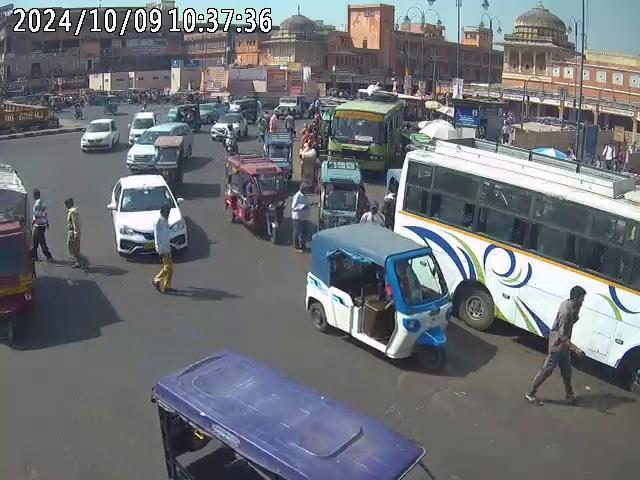auto: (152, 349, 438, 480), (303, 220, 455, 368), (223, 153, 287, 241), (320, 156, 364, 225), (156, 134, 186, 189)
bus: (391, 145, 639, 398), (328, 93, 406, 174)
car: (108, 174, 188, 262), (126, 118, 194, 170), (80, 117, 119, 152), (209, 109, 247, 142), (128, 111, 160, 141)
person: (534, 283, 585, 406), (153, 204, 179, 294), (289, 182, 316, 251), (62, 196, 83, 271), (30, 191, 50, 260), (362, 202, 383, 227), (600, 141, 616, 170)
